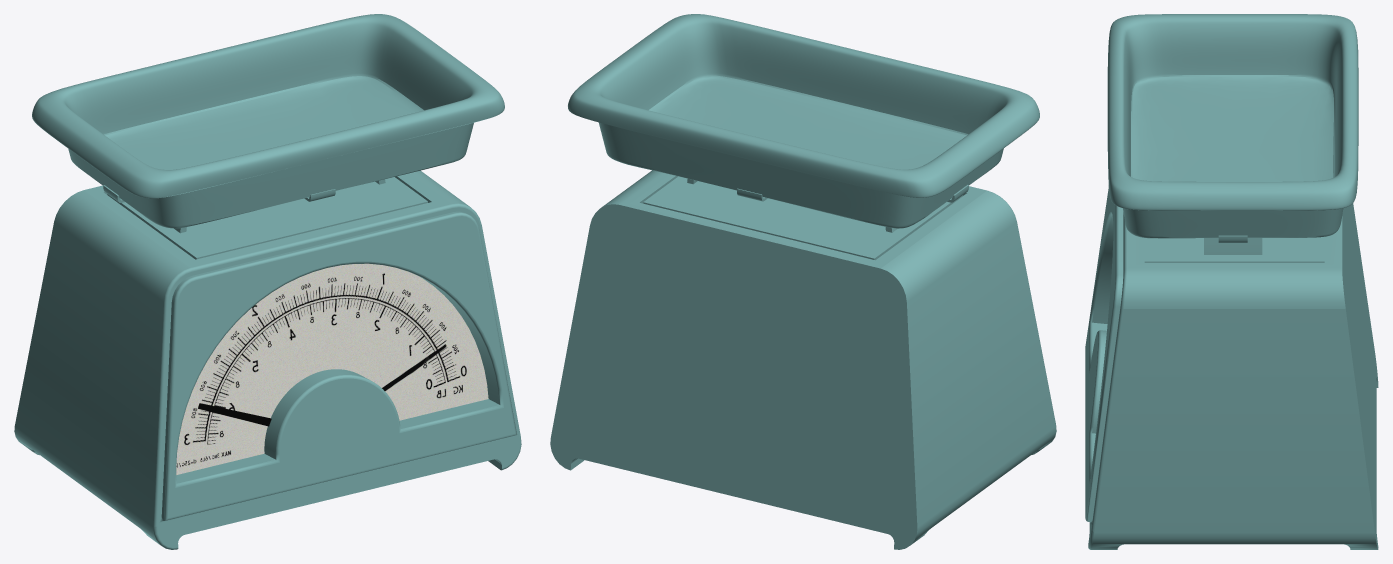
File: RETRO_SCALES.fbx
The picture shows the model from 3 angles, left to right: view 1: azimuth 30°, elevation 25°; view 2: azimuth 150°, elevation 25°; view 3: azimuth 270°, elevation 25°; orthographic projection.
Parts seen in each view (by area): view 1: base, plate, measure; view 2: base, plate; view 3: base, plate, leg.
Boxes of the visible parts, x1,y1,x2,y2 form: base: (14, 170, 521, 549); plate: (32, 14, 504, 228); measure: (176, 263, 488, 474); base: (550, 170, 1056, 549); plate: (568, 14, 1039, 228); base: (1085, 187, 1378, 549); plate: (1107, 14, 1358, 238); leg: (1204, 238, 1262, 254).
Bounding box in the file's own units: 30.07 × 27.97 × 20.16.
3 materials, 1 textured.
